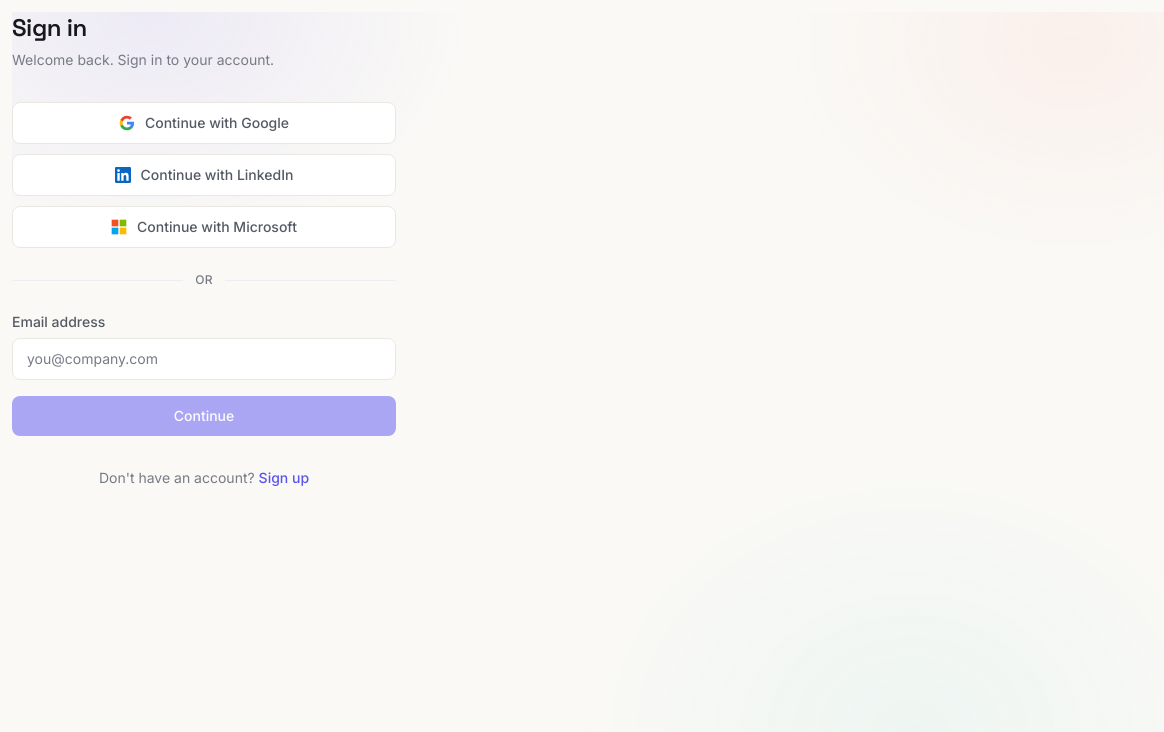
Test: SignInPage › shows an error when the emailed code is wrong
Type "j@example.com" into the field labelled "Email address" at (204, 359), box [12,338,396,380]
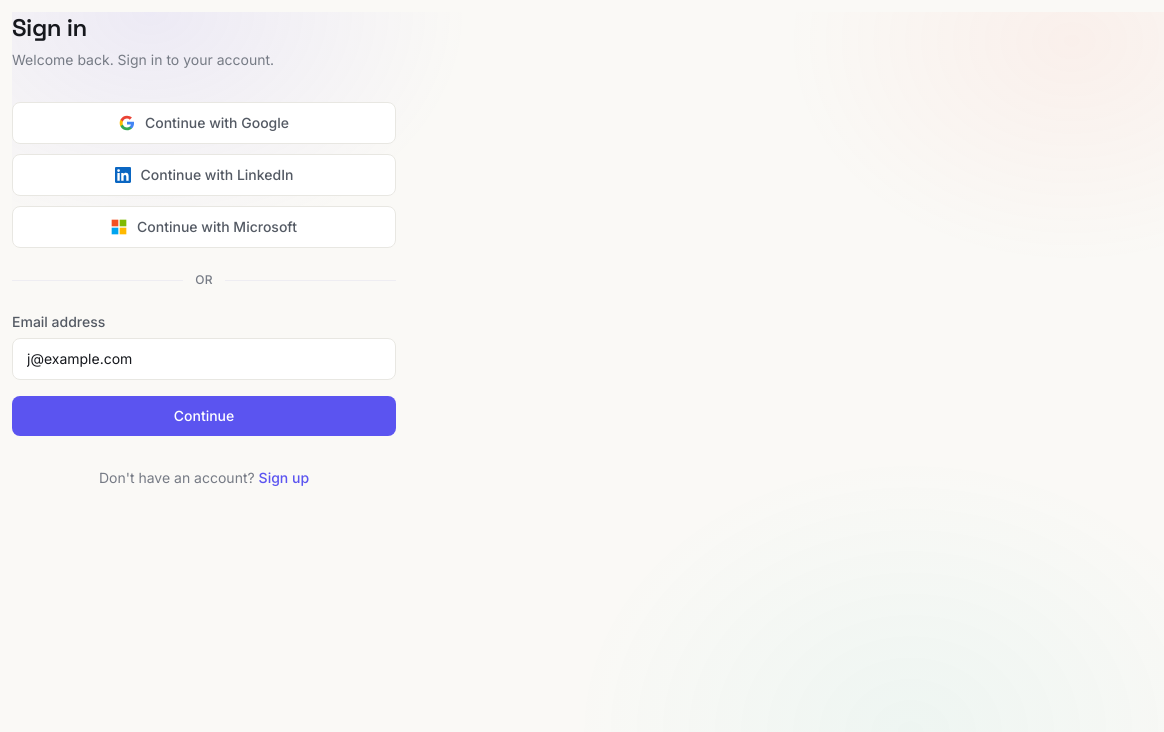
Click the button "Continue" at (204, 416), box [12,396,396,436]
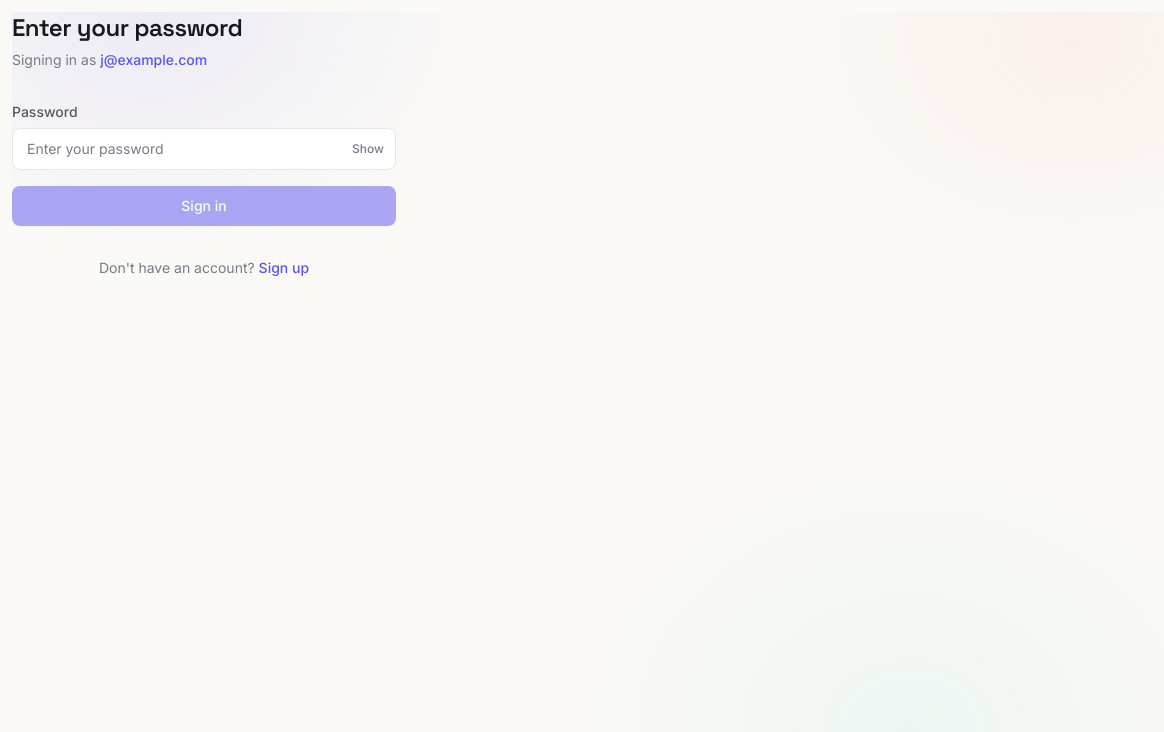
Result: the password field labelled "Password" is shown
Type "hunter22" into the password field labelled "Password" at (204, 149), box [12,128,396,170]
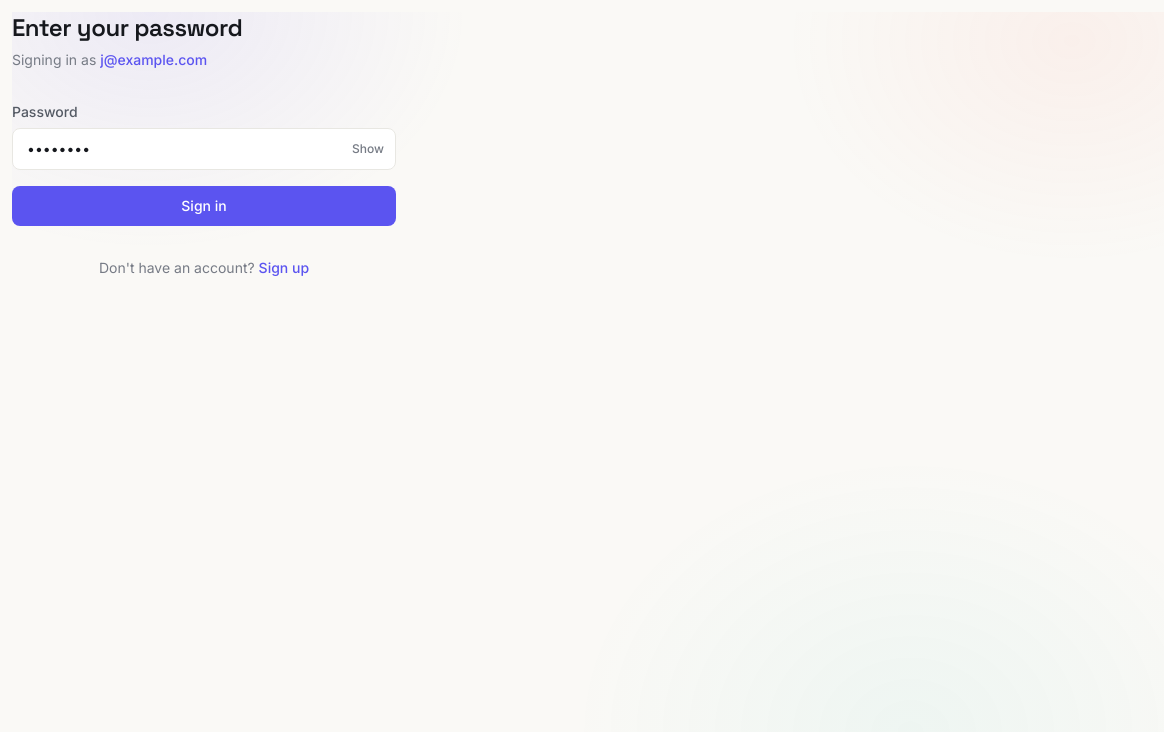
Click the button "Sign in" at (204, 206), box [12,186,396,226]
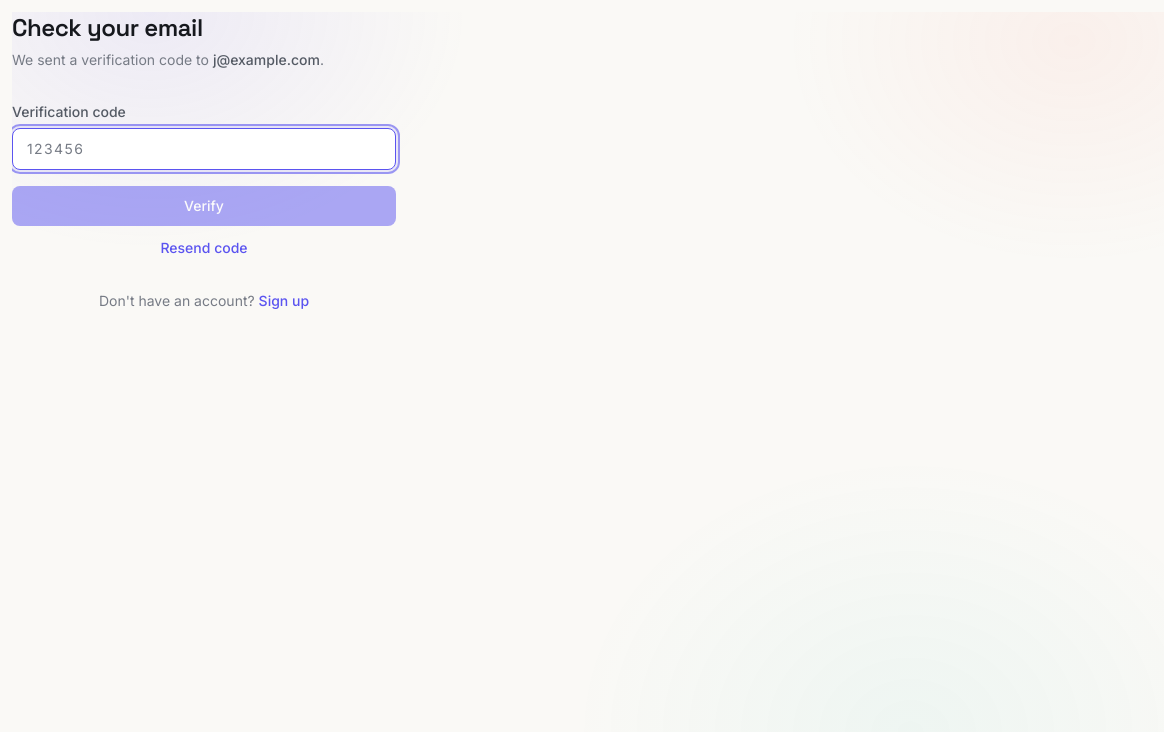
Type "000000" into the field labelled "Verification code" at (204, 149), box [12,128,396,170]
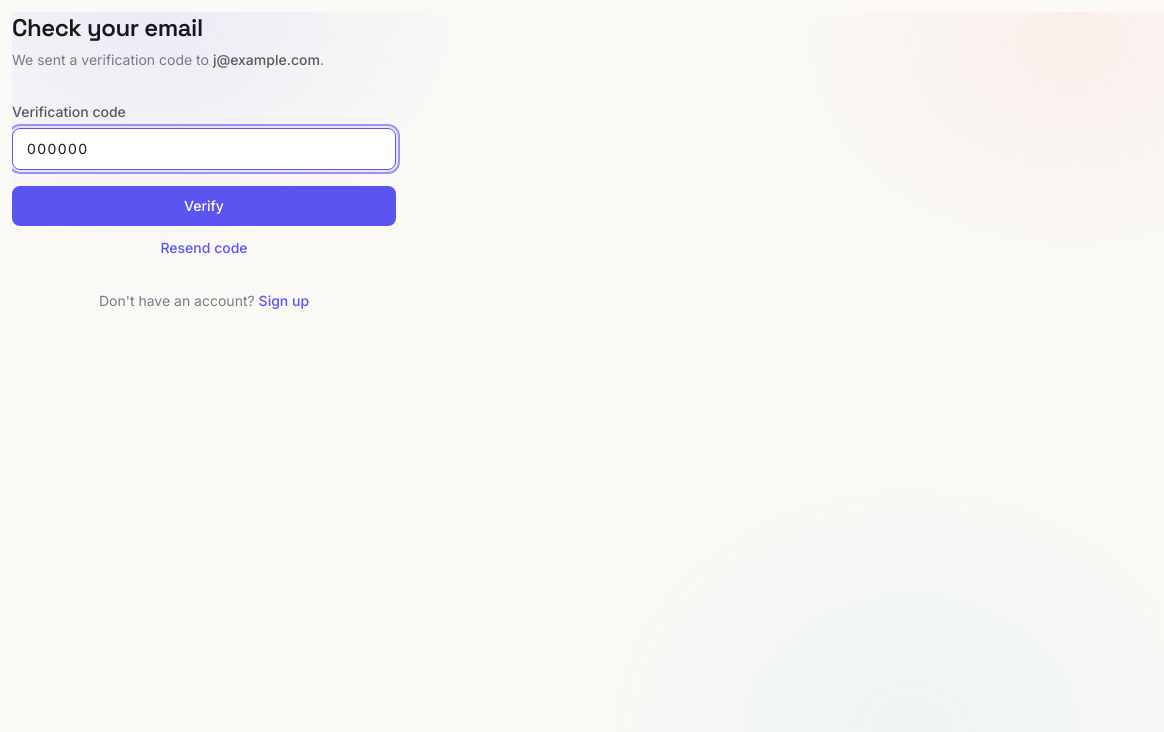
Click the button "Verify" at (204, 206), box [12,186,396,226]
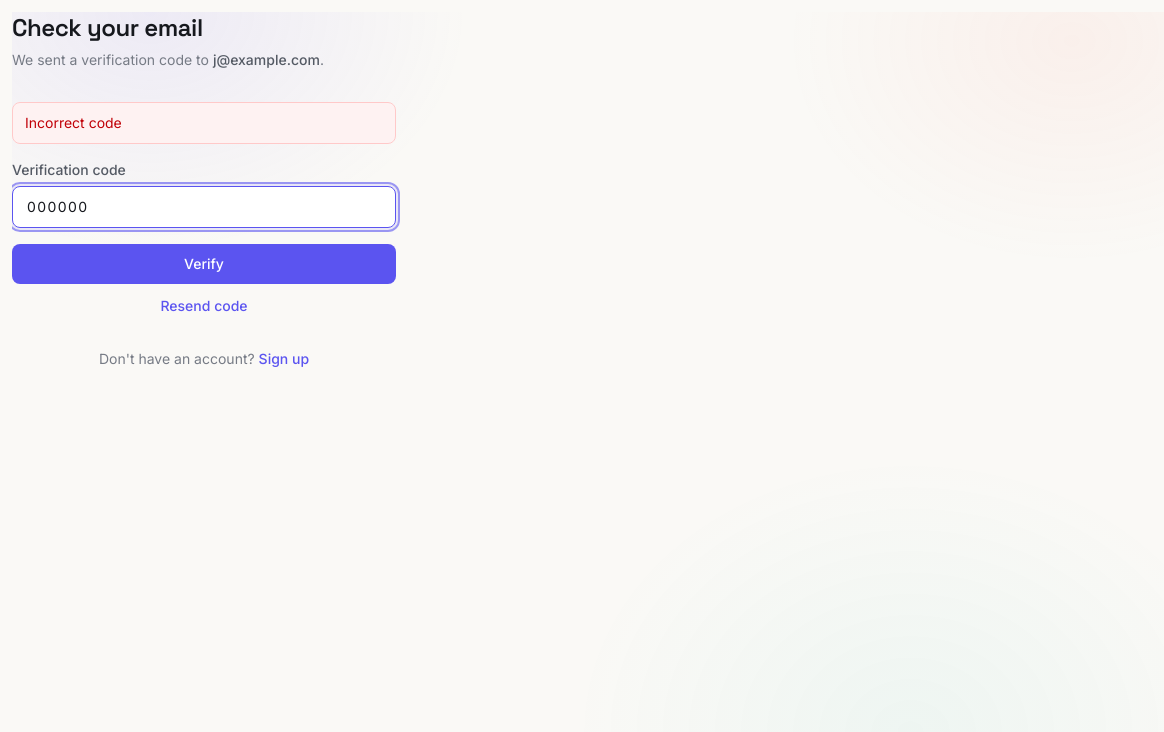
Result: the text "Incorrect code" is shown at [12,102,396,144]
